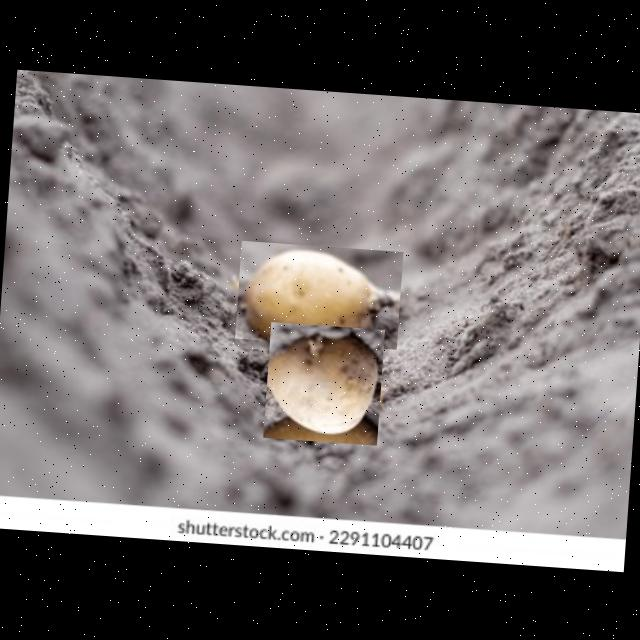Sprouted potato: (235, 240, 403, 350), (262, 322, 384, 446)
